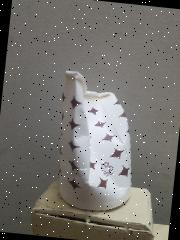paper: (50, 70, 144, 214)
